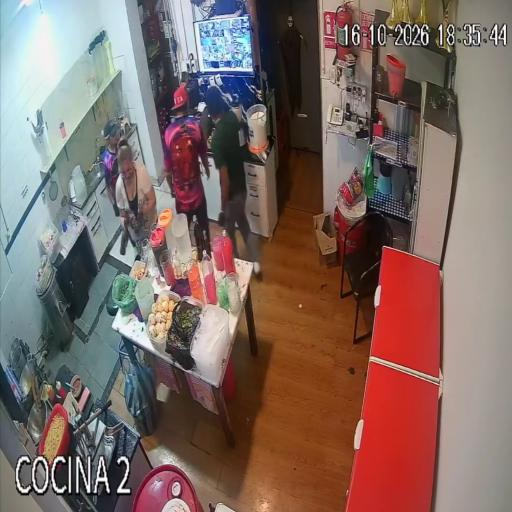Balde: (247, 104, 269, 153)
Jarra1: (150, 227, 166, 274)
Jarra2: (158, 209, 175, 250)
Jarra3: (171, 213, 191, 263)
Jarra4: (135, 278, 154, 321)
Licuadora2: (231, 94, 246, 146)
Microondas: (199, 103, 213, 141)
Persona1: (164, 87, 209, 231)
Persona2: (116, 143, 156, 248)
Persona3: (206, 89, 250, 248)
Persona5: (102, 122, 120, 216)
Taper: (129, 260, 149, 281)
Taper2: (146, 291, 180, 351)
Taper3: (165, 298, 202, 369)
Taper4: (190, 304, 229, 385)
